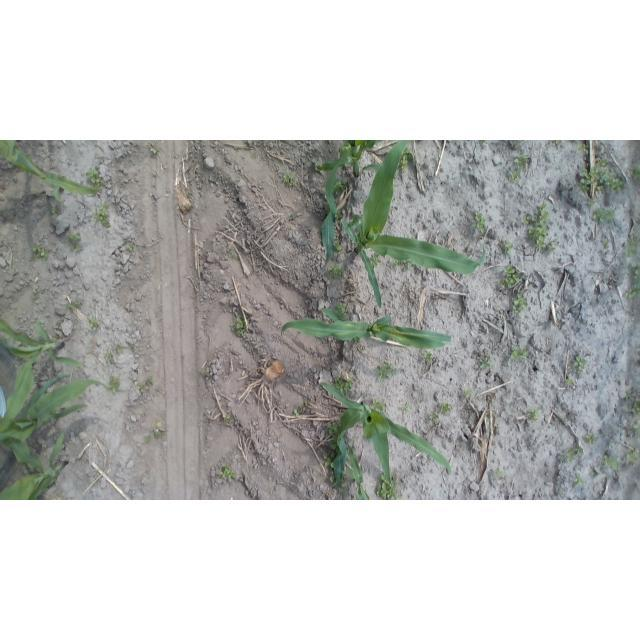Maize: (346, 140, 483, 309), (316, 382, 452, 499), (0, 374, 110, 470), (278, 307, 455, 356), (314, 140, 385, 262), (2, 317, 80, 424), (0, 141, 102, 203), (0, 432, 72, 500), (339, 441, 372, 500)
Weeds: (524, 203, 555, 254), (578, 161, 623, 194), (375, 473, 402, 499), (500, 265, 522, 288), (94, 203, 113, 228), (511, 293, 530, 318), (375, 362, 399, 381), (231, 314, 249, 337), (334, 377, 355, 396), (30, 245, 51, 263), (87, 168, 106, 187), (473, 210, 488, 234), (593, 208, 616, 223), (510, 345, 531, 361), (626, 234, 639, 259), (573, 355, 588, 376), (399, 149, 413, 171), (603, 453, 620, 471), (68, 232, 83, 252), (220, 463, 237, 480), (526, 407, 542, 423), (371, 397, 388, 412), (479, 355, 494, 371), (280, 172, 296, 187), (334, 302, 349, 318), (514, 155, 530, 170), (566, 446, 583, 460), (151, 422, 165, 439), (392, 259, 413, 270), (329, 264, 344, 279), (326, 421, 341, 436), (333, 180, 347, 196), (292, 402, 308, 416), (330, 469, 341, 489), (108, 376, 121, 392), (626, 283, 638, 299), (323, 452, 335, 468), (628, 262, 638, 281), (509, 169, 522, 183), (67, 299, 83, 310), (630, 399, 638, 420), (328, 437, 340, 451), (626, 446, 638, 460), (577, 143, 590, 155), (88, 317, 100, 330), (503, 240, 514, 254), (584, 432, 596, 444), (440, 403, 453, 414), (371, 254, 382, 267), (333, 239, 343, 253), (423, 351, 434, 363), (429, 411, 440, 422), (125, 240, 137, 250), (115, 343, 125, 355), (632, 165, 639, 182), (463, 388, 473, 399), (493, 468, 504, 478), (401, 403, 411, 414), (54, 322, 65, 332), (228, 248, 237, 260), (224, 414, 236, 423), (33, 290, 42, 302), (631, 423, 638, 438), (49, 205, 59, 215), (564, 378, 575, 387), (137, 383, 146, 394), (289, 210, 301, 218), (590, 470, 600, 479), (105, 351, 114, 361), (574, 476, 584, 485), (203, 367, 211, 378), (335, 209, 342, 221), (150, 147, 159, 156), (554, 140, 564, 148), (146, 375, 154, 385), (147, 433, 154, 444), (625, 391, 633, 400), (602, 240, 610, 248), (588, 198, 596, 206), (482, 140, 493, 144)
